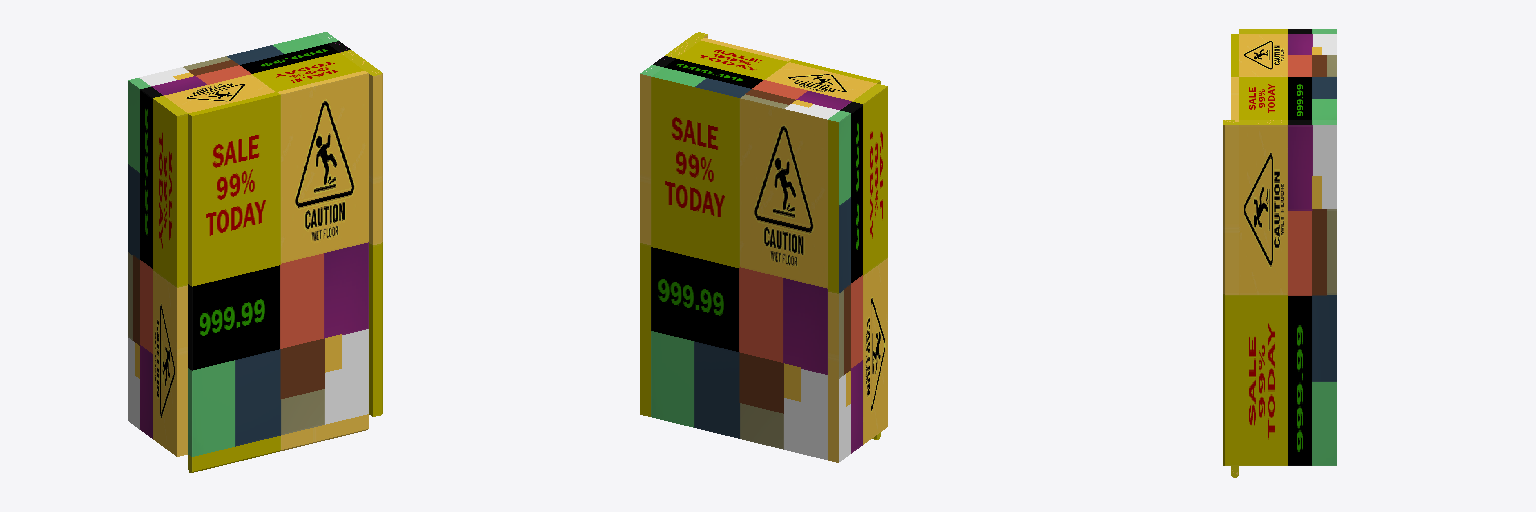
3 views of the same model, side by side, from view 1: azimuth 30°, elevation 25°; view 2: azimuth 150°, elevation 25°; view 3: azimuth 270°, elevation 25° (orthographic).
Parts seen in each view (by area): view 1: Object001, Box006; view 2: Box006; view 3: Box006.
Part boxes in pixels (bbox=[...]): Object001: bbox=[188, 73, 368, 472]; Box006: bbox=[128, 32, 382, 456]; Box006: bbox=[640, 32, 887, 462]; Box006: bbox=[1223, 29, 1336, 465].
Bounding box in the file's own units: 1.6 × 2.75 × 0.8.
Materials: 1 (1 with a texture image).